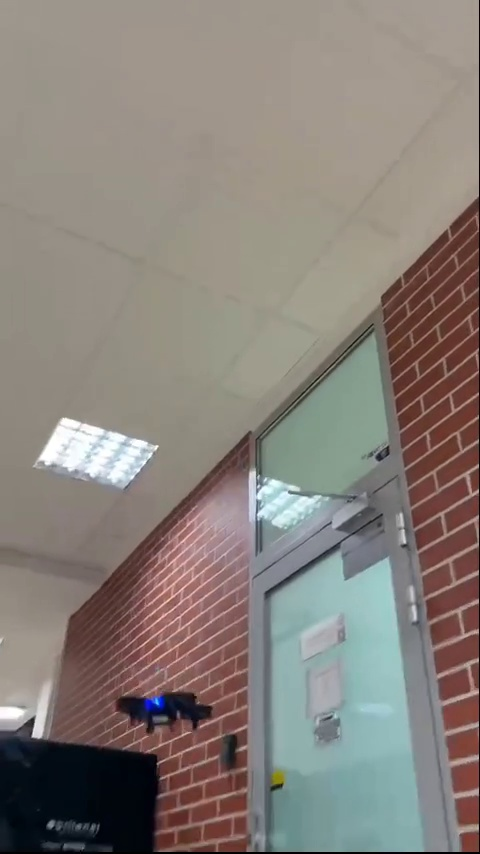drone: (122, 694, 210, 734)
